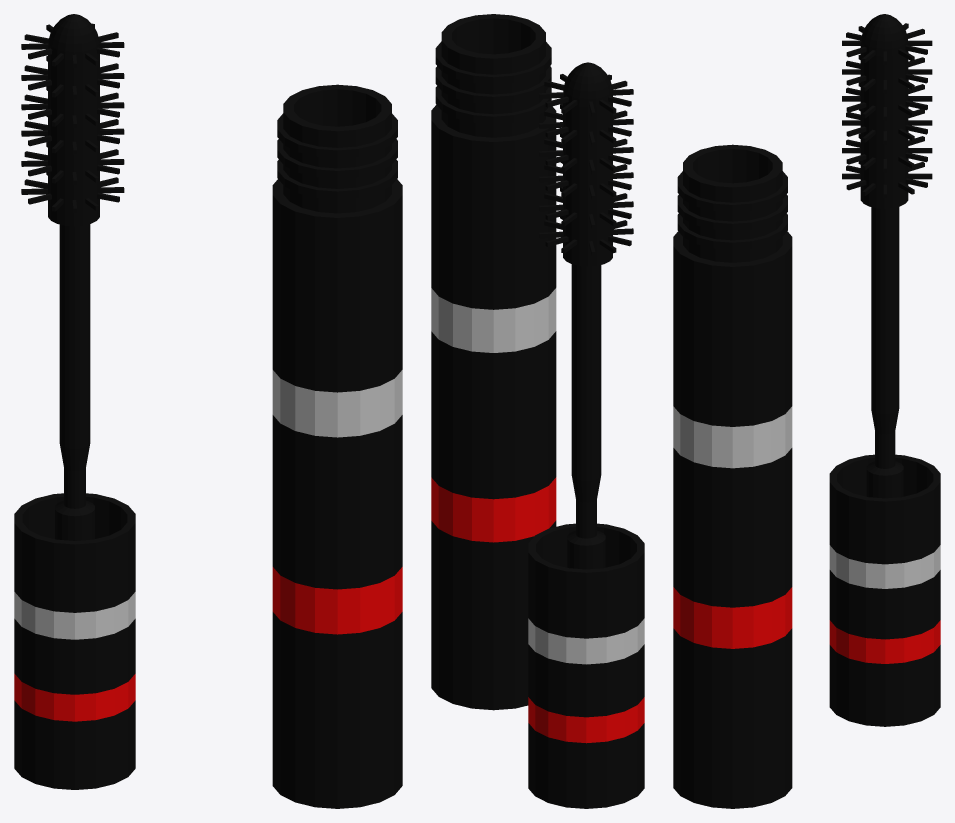
The model's file is Mascara.obj.
The picture shows the model from 3 angles, left to right: view 1: azimuth 30°, elevation 25°; view 2: azimuth 150°, elevation 25°; view 3: azimuth 270°, elevation 25°; orthographic projection. The views are drawn at different scales.
Parts seen in each view (by area): view 1: Cylinder004, Cylinder005; view 2: Cylinder004, Cylinder005; view 3: Cylinder004, Cylinder005.
Part boxes in pixels (x1,y1,x2,y2): Cylinder004: [272, 84, 402, 808]; Cylinder005: [14, 14, 135, 789]; Cylinder004: [431, 14, 556, 710]; Cylinder005: [528, 62, 644, 808]; Cylinder004: [673, 144, 792, 808]; Cylinder005: [829, 14, 940, 726].
Size of the model in its own units: 136625 by 337538 by 119018.
